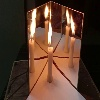fire: (47, 20, 53, 50)
